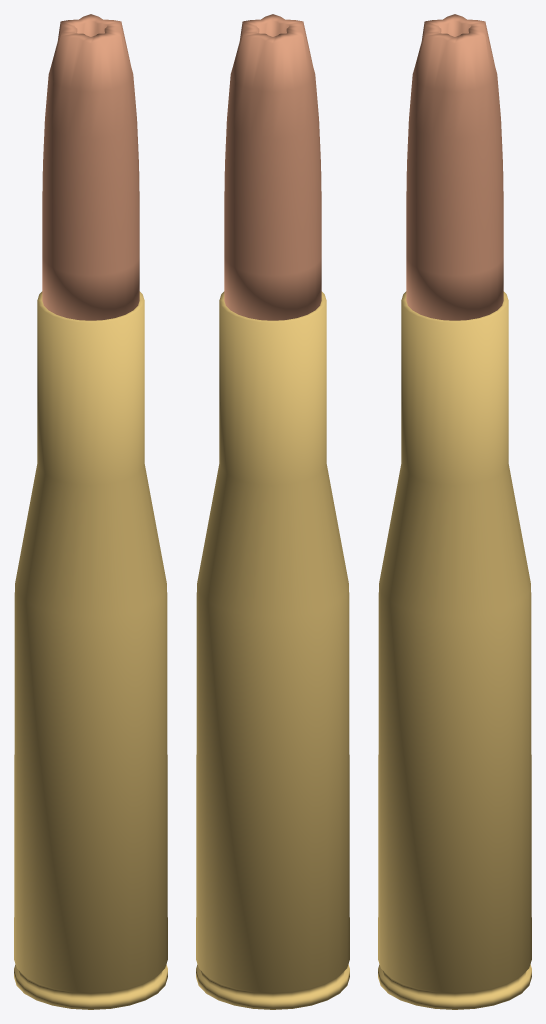
Rendered from 50bmg_hp.glb.
3 views of the same model, side by side, from view 1: azimuth 30°, elevation 25°; view 2: azimuth 150°, elevation 25°; view 3: azimuth 270°, elevation 25° (orthographic).
Visible parts, largest first — view 1: vaina, bala_hueca; view 2: vaina, bala_hueca; view 3: vaina, bala_hueca.
Boxes of the visible parts, bbox=[...] form: vaina: bbox=[14, 291, 167, 1009]; bala_hueca: bbox=[42, 14, 139, 320]; vaina: bbox=[196, 291, 349, 1009]; bala_hueca: bbox=[224, 14, 321, 320]; vaina: bbox=[378, 291, 531, 1009]; bala_hueca: bbox=[406, 14, 503, 320].
Bounding box in the file's own units: 0.0204 × 0.1388 × 0.0204.
